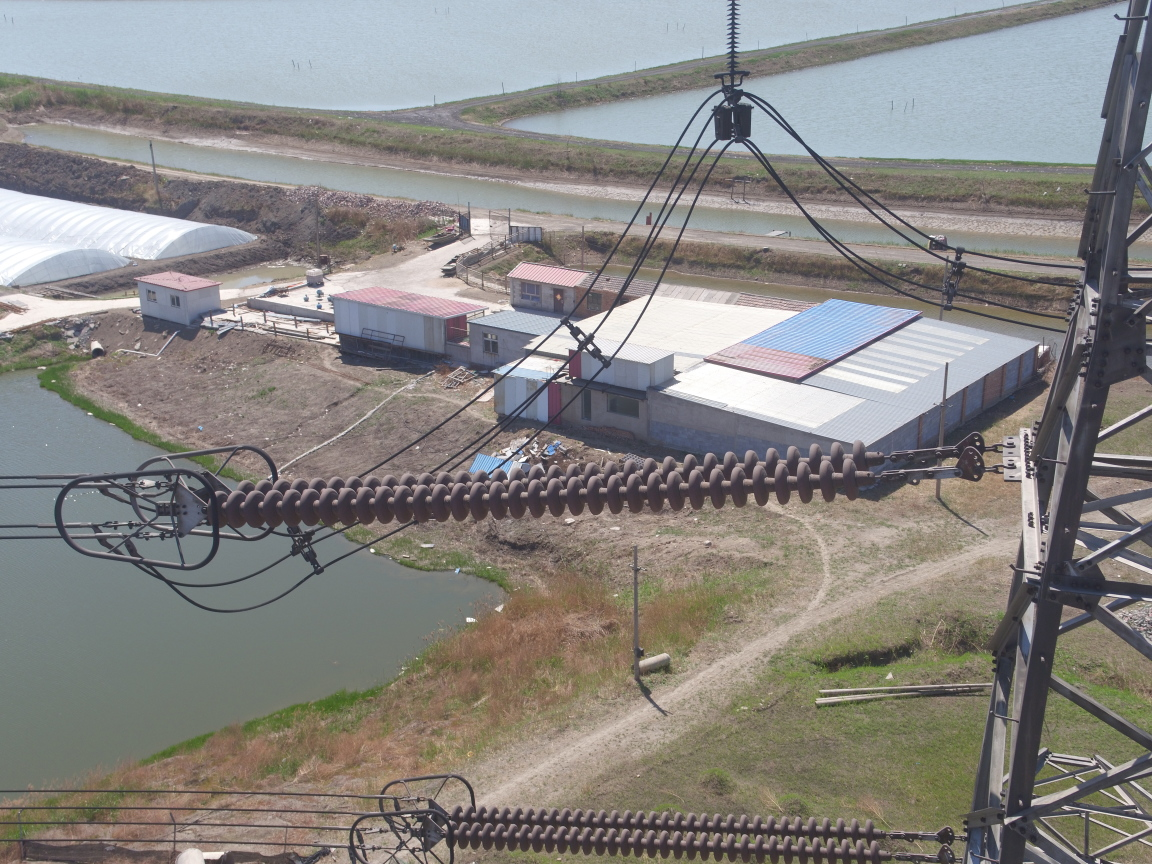insulator: (189, 435, 934, 530), (435, 801, 916, 863)
